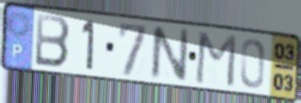0: (238, 37, 266, 90)
1: (80, 19, 95, 73)
7: (116, 20, 149, 79)
B: (33, 11, 72, 70)
M: (193, 30, 239, 90)
N: (149, 25, 191, 84)
